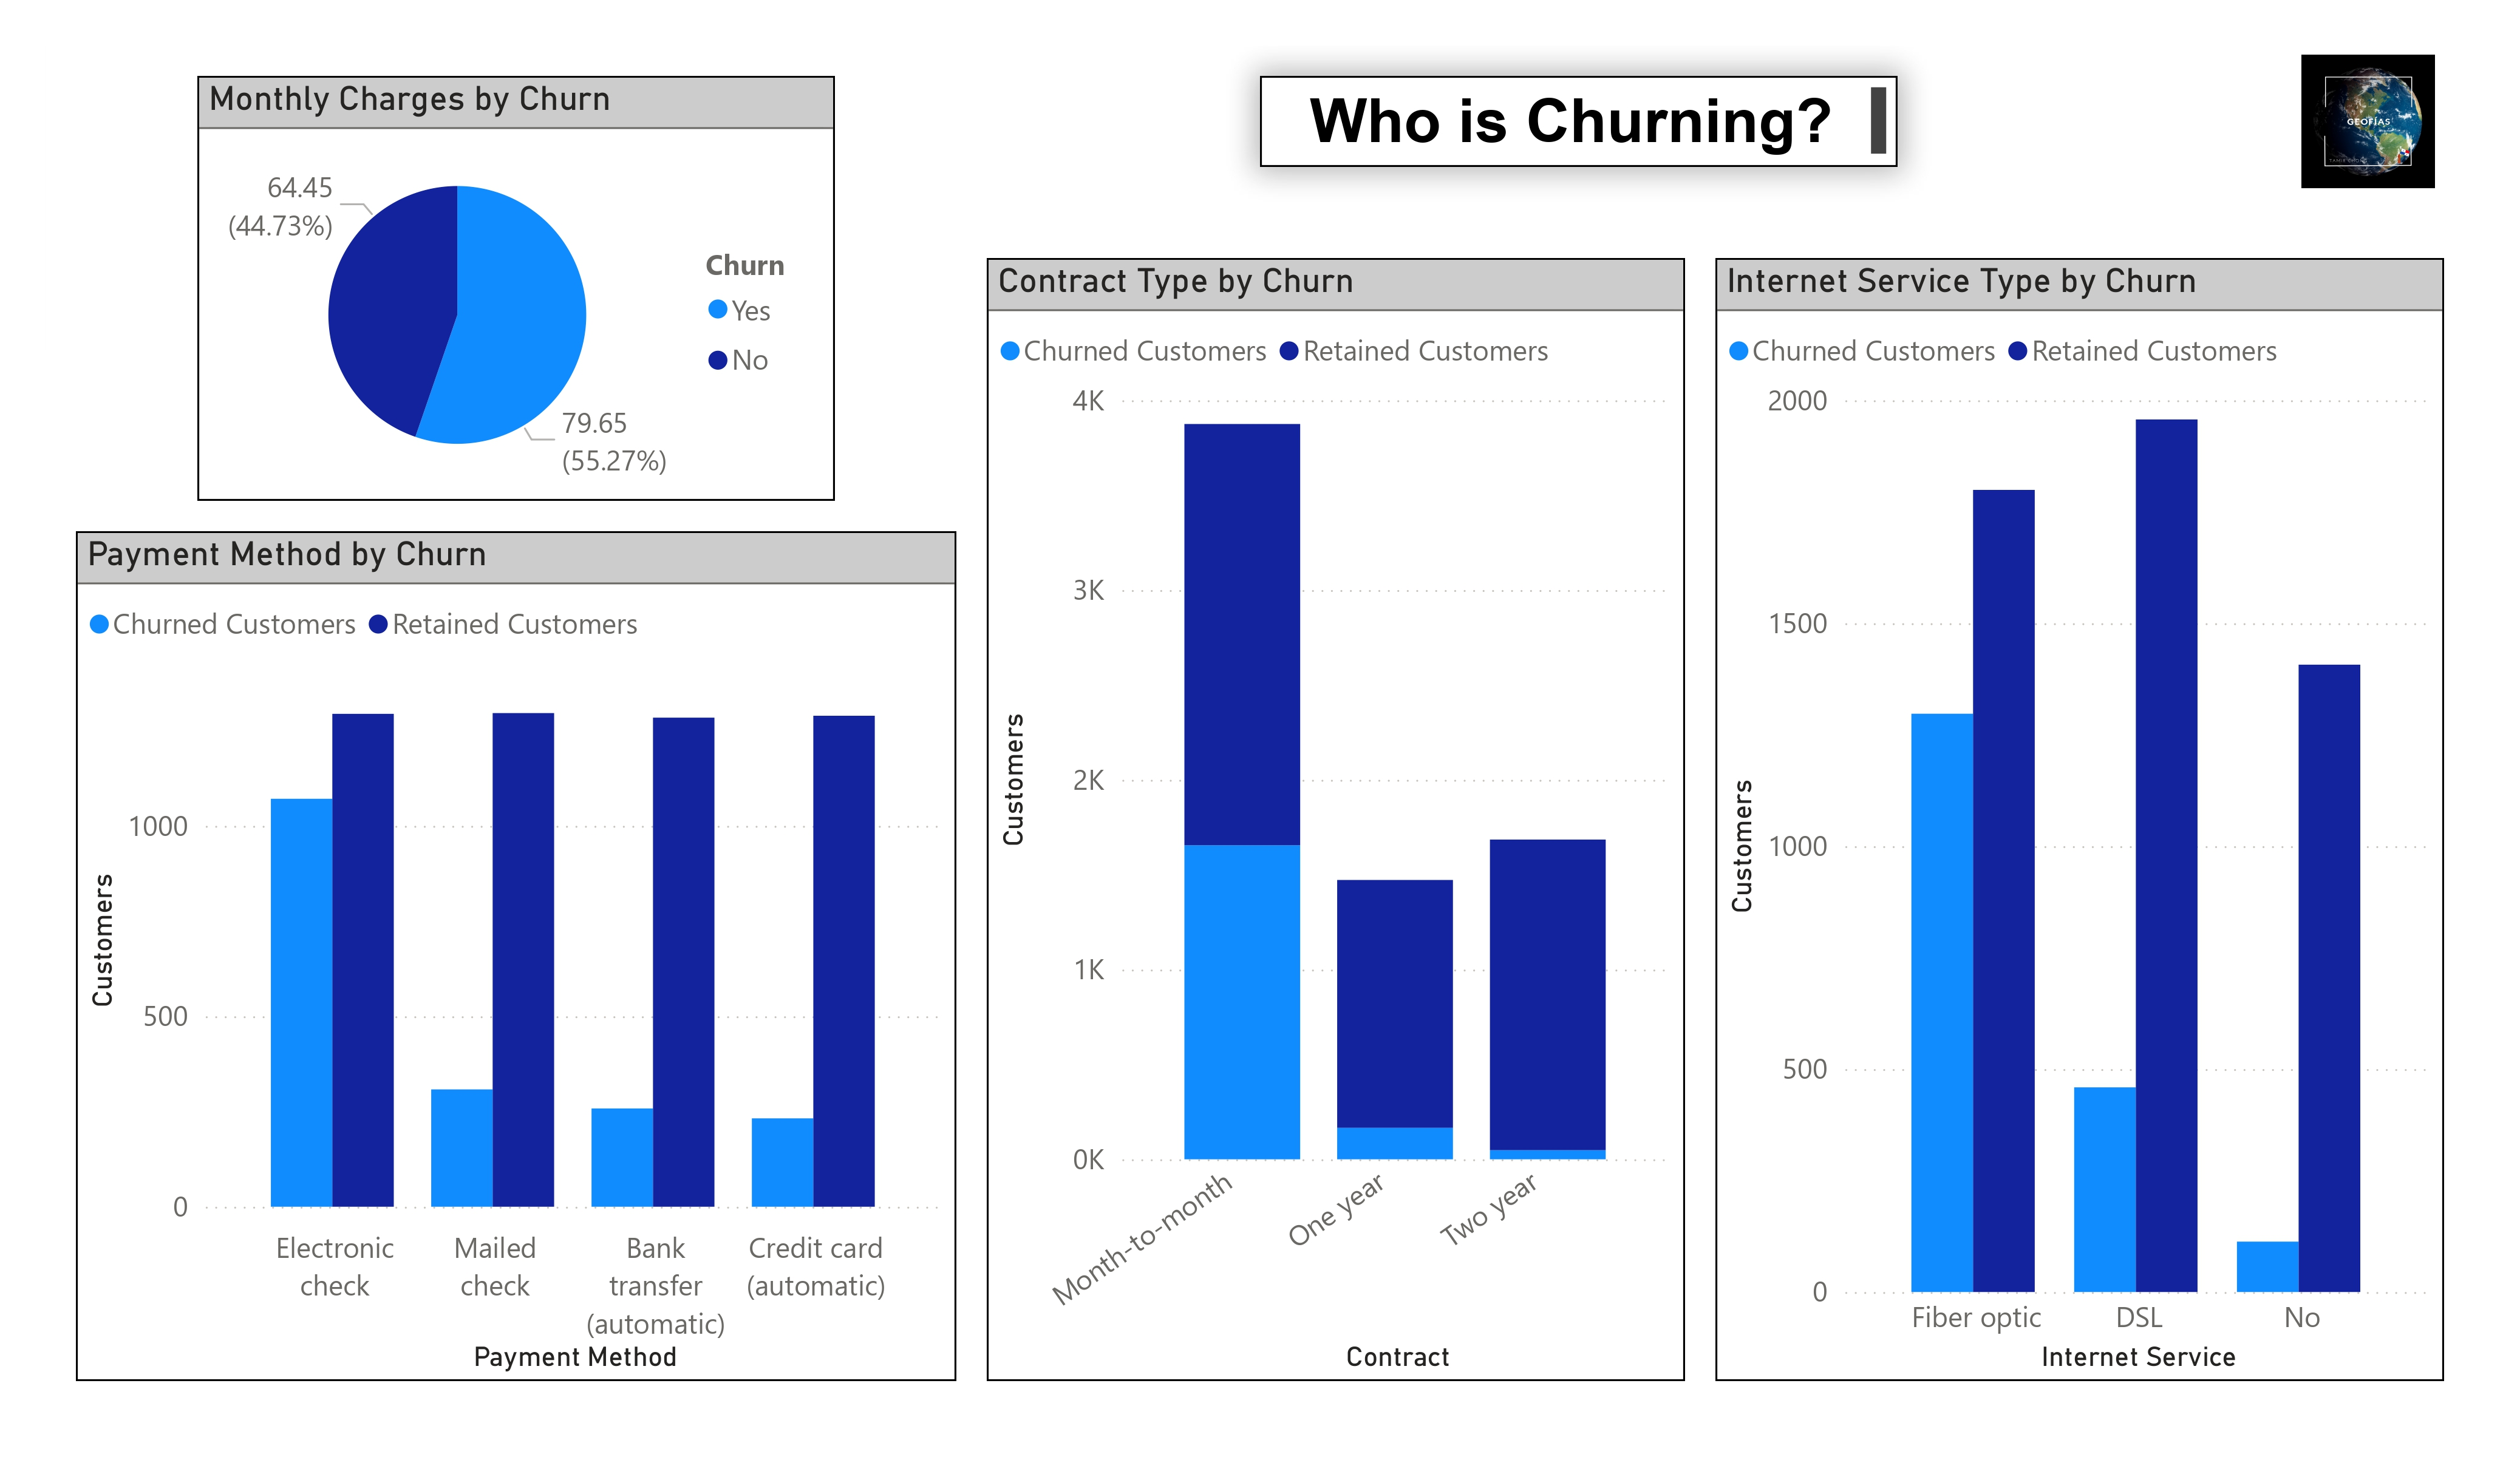

This screenshot's page, from the dashboard's own definition file:
{"tool":"powerbi","page":{"name":"Customer Profile Analysis","canvas":[1280,720],"ordinal":1},"visuals":[{"type":"clusteredColumnChart","title":"Internet Service Type by Churn","fields":{"Category":["churn_customers.InternetService"],"Y":["churn_customers.ChurnedCustomers","churn_customers.Retained_Customers"]},"box":[880,112,384,592],"z":0},{"type":"columnChart","title":"Contract Type by Churn","fields":{"Category":["churn_customers.Contract"],"Y":["churn_customers.ChurnedCustomers","churn_customers.Retained_Customers"]},"box":[496,112,368,592],"z":1000},{"type":"pieChart","title":"Monthly Charges by Churn","fields":{"Category":["churn_customers.Churn"],"Y":["Median(churn_customers.MonthlyCharges)"]},"box":[80,16,336,224],"z":2000},{"type":"clusteredColumnChart","title":"Payment Method by Churn","fields":{"Category":["churn_customers.PaymentMethod"],"Y":["churn_customers.ChurnedCustomers","churn_customers.Retained_Customers"]},"box":[16,256,464,448],"z":3000},{"type":"image","box":[1184,0,80,80],"z":4000},{"type":"textbox","box":[640,16,336,48],"z":5000}]}

Visuals, with their boxes on the page's 1280x720 design canvas (x1, y1, x2, y2). These are canvas units, not pixel positions in the 2520x1457 screenshot, which may show the page scaled, cropped or inside an application window:
"Internet Service Type by Churn" clusteredColumnChart: crop(880, 112, 1264, 704)
"Contract Type by Churn" columnChart: crop(496, 112, 864, 704)
"Monthly Charges by Churn" pieChart: crop(80, 16, 416, 240)
"Payment Method by Churn" clusteredColumnChart: crop(16, 256, 480, 704)
image: crop(1184, 0, 1264, 80)
textbox: crop(640, 16, 976, 64)
